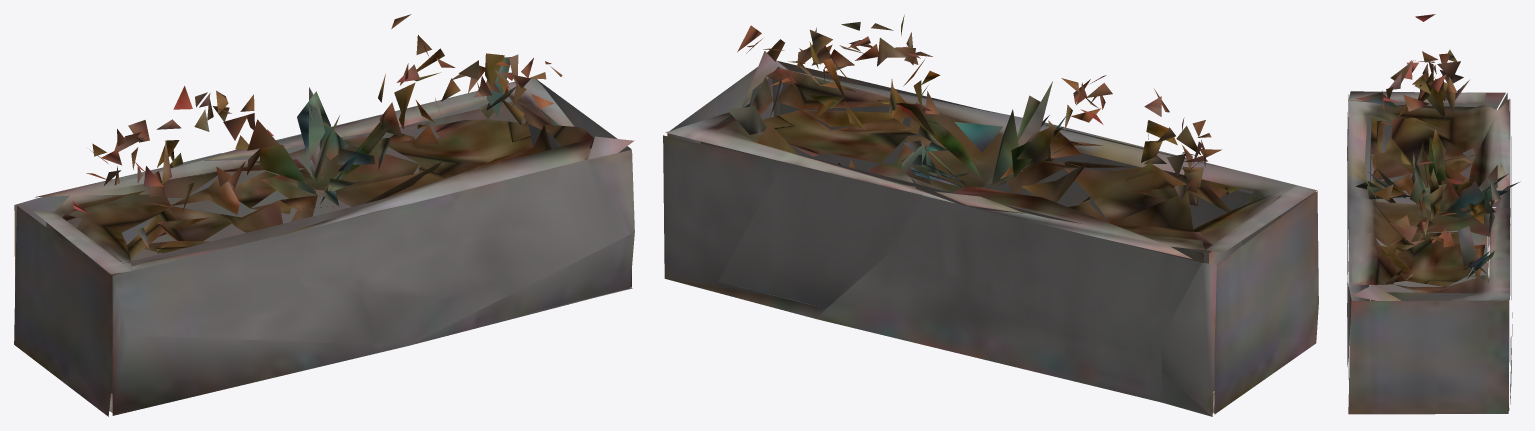
The model's file is kueste_pflanzkuebel_lo.glb.
The picture shows the model from 3 angles, left to right: view 1: azimuth 30°, elevation 25°; view 2: azimuth 150°, elevation 25°; view 3: azimuth 270°, elevation 25°; orthographic projection. The views are drawn at different scales.
Visible parts, largest first — view 1: Prop; view 2: Prop; view 3: Prop.
Part boxes in pixels (left/top/right/bottom): Prop: left=14, top=14, right=634, bottom=416; Prop: left=663, top=15, right=1318, bottom=416; Prop: left=1347, top=14, right=1520, bottom=414.
Size of the model in its own units: 1.96 by 0.9288 by 0.6715.
Materials: 1 (1 with a texture image).
